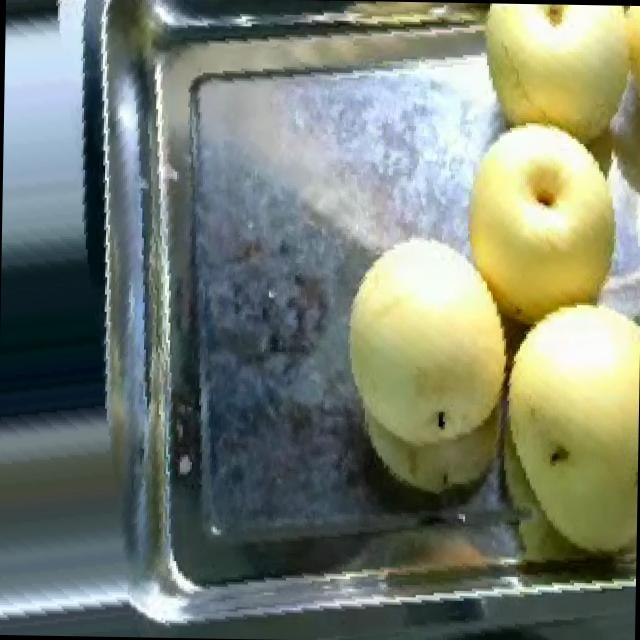Fruit: (328, 233, 512, 502), (449, 112, 640, 345), (499, 283, 640, 583), (462, 2, 640, 201)
